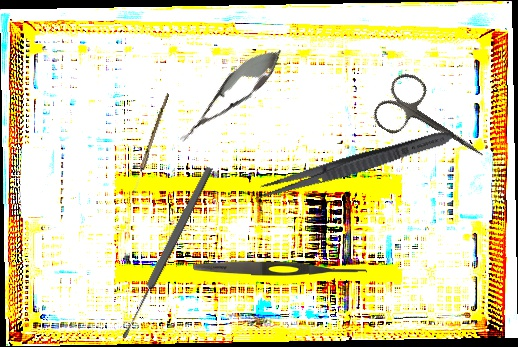Dressing Forceps: (250, 124, 457, 206), (192, 259, 368, 278)
Iris Scissors: (368, 67, 500, 183)
Micro Scissor: (170, 37, 291, 153)
Surgical Spoon: (118, 164, 215, 341), (130, 92, 170, 199)
